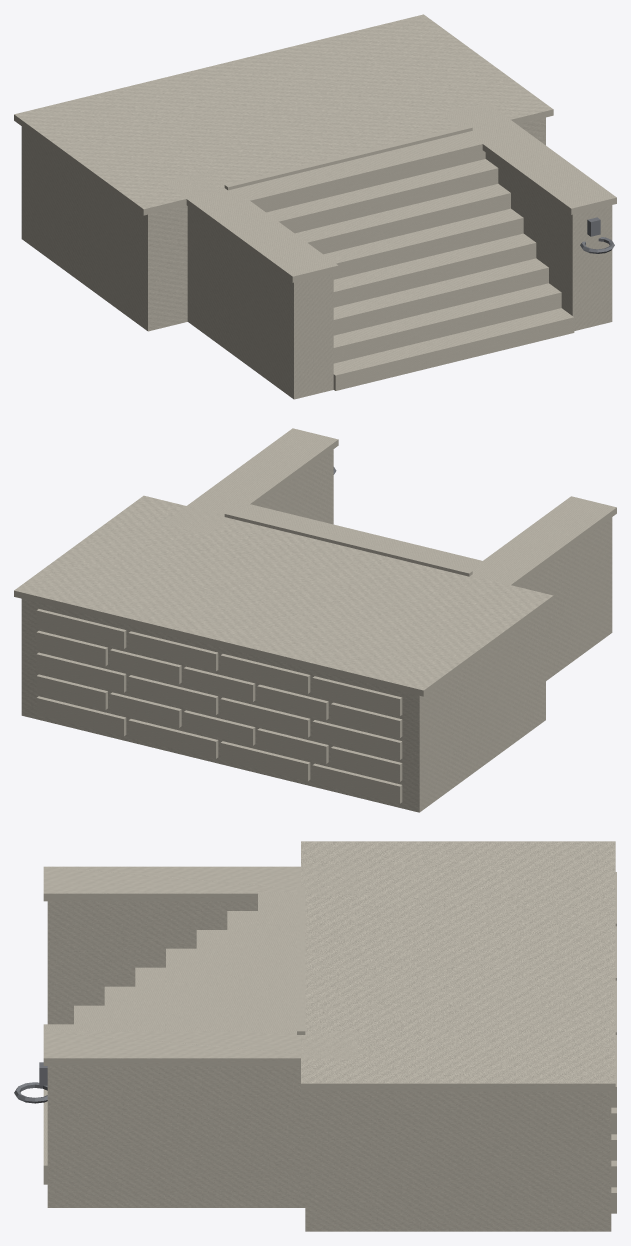
The model's file is pirate-port-and-tall-ships-stone-quay-stairs-760987a6__30135.glb.
3 renders of one model, top to bottom at view 1: azimuth 30°, elevation 25°; view 2: azimuth 150°, elevation 25°; view 3: azimuth 270°, elevation 25°, orthographic. The views are drawn at different scales.
Visible parts, largest first — view 1: stone-quay-stairs; view 2: stone-quay-stairs; view 3: stone-quay-stairs.
Part boxes in pixels (left/top/right/bottom): stone-quay-stairs: left=14, top=14, right=616, bottom=399; stone-quay-stairs: left=14, top=428, right=616, bottom=812; stone-quay-stairs: left=14, top=841, right=616, bottom=1231.
Size of the model in its own units: 4.12 by 1.23 by 4.33.
2 materials, 1 textured.
